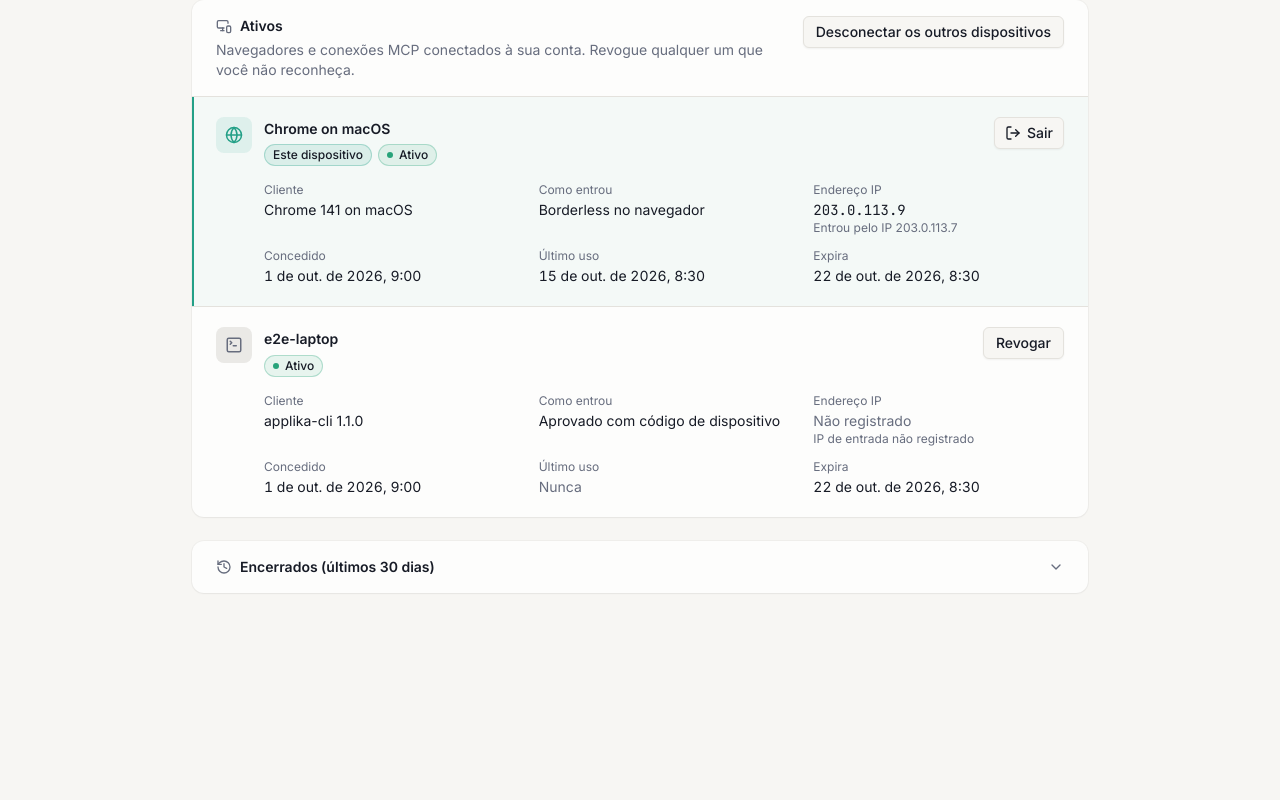
Scenario: Devices tab in Portuguese › translates the tab and shows device names and client labels as sent
expect the heading "Ativos" is shown: met, box [240,16,283,36]
Click the button "Encerrados (últimos 30 dias)": {"x": 337, "y": 566} [192,540,1088,592]
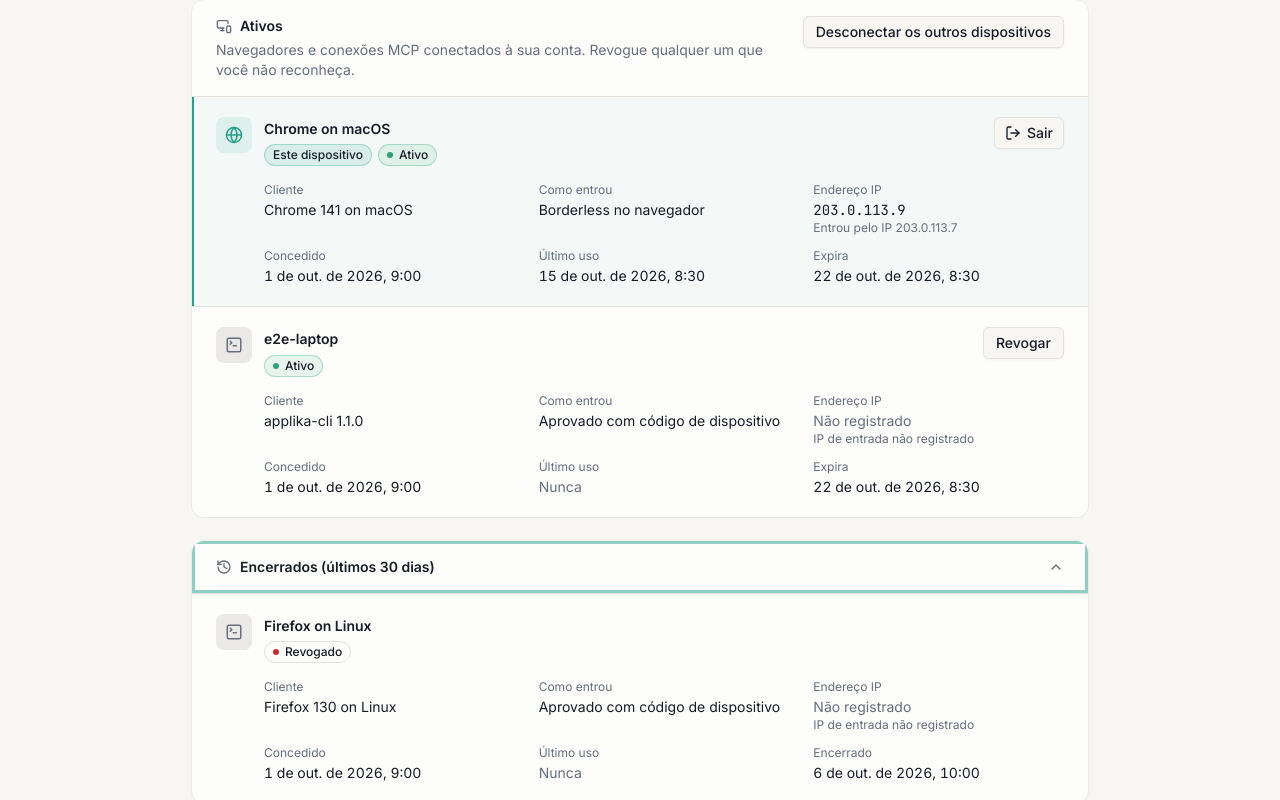
expect the text "Firefox 130 on Linux" is shown: met, box [264,698,396,715]
expect the text "Revogado" is shown: met, box [264,641,351,663]
expect the text "Encerrado" is shown: met, box [813,745,872,760]
